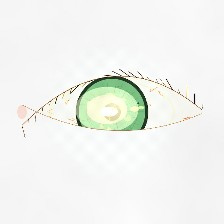corneal_ulcer: (74, 83, 140, 136)
